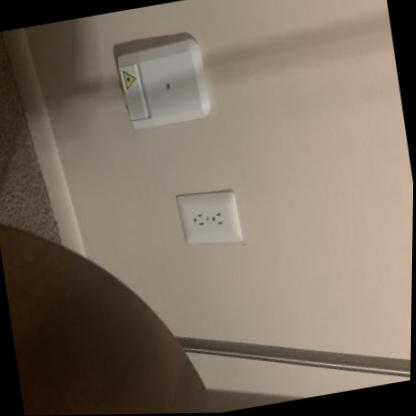OUTLET: (175, 182, 245, 251)
